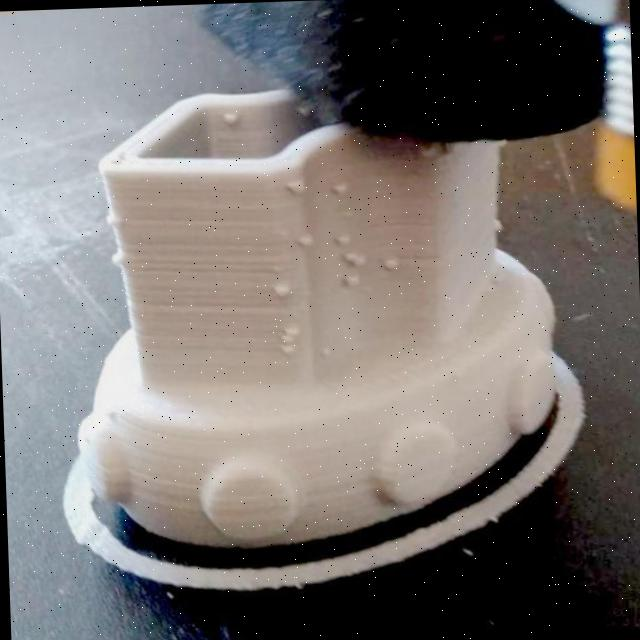blobs: (330, 228, 361, 252), (278, 175, 308, 198), (378, 252, 404, 278), (280, 314, 306, 340), (342, 247, 370, 269), (340, 272, 366, 294), (102, 206, 125, 230), (482, 211, 505, 235), (328, 180, 358, 198), (293, 228, 317, 250), (268, 281, 293, 300), (278, 337, 300, 356), (107, 248, 130, 265), (221, 112, 239, 128)
